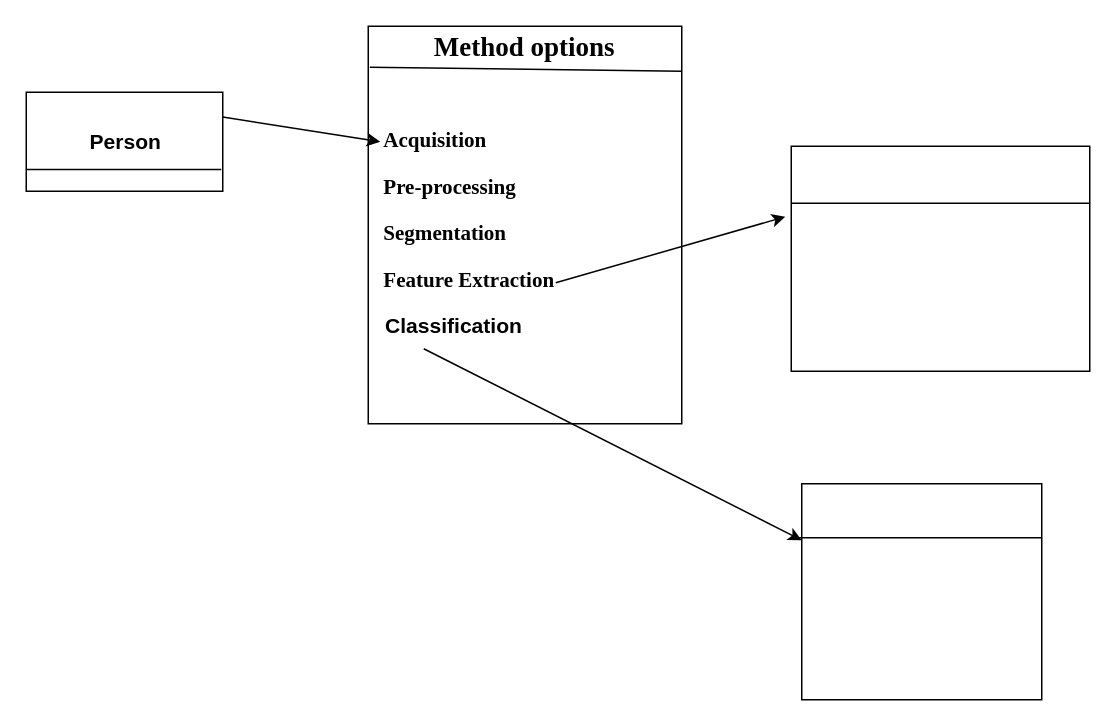
This 1116x726 diagram has some shape labels left out. The shapes that lost their labels are listed below. From the top down, each one's box as (x1, y1, x2, y2) in pixels, then its label:
(790, 145, 1090, 371): Extraction Classification Energy Contrast Homogeneity Correlation
(800, 482, 1042, 700): Classification Option Normal Cells Abnormal Cells
